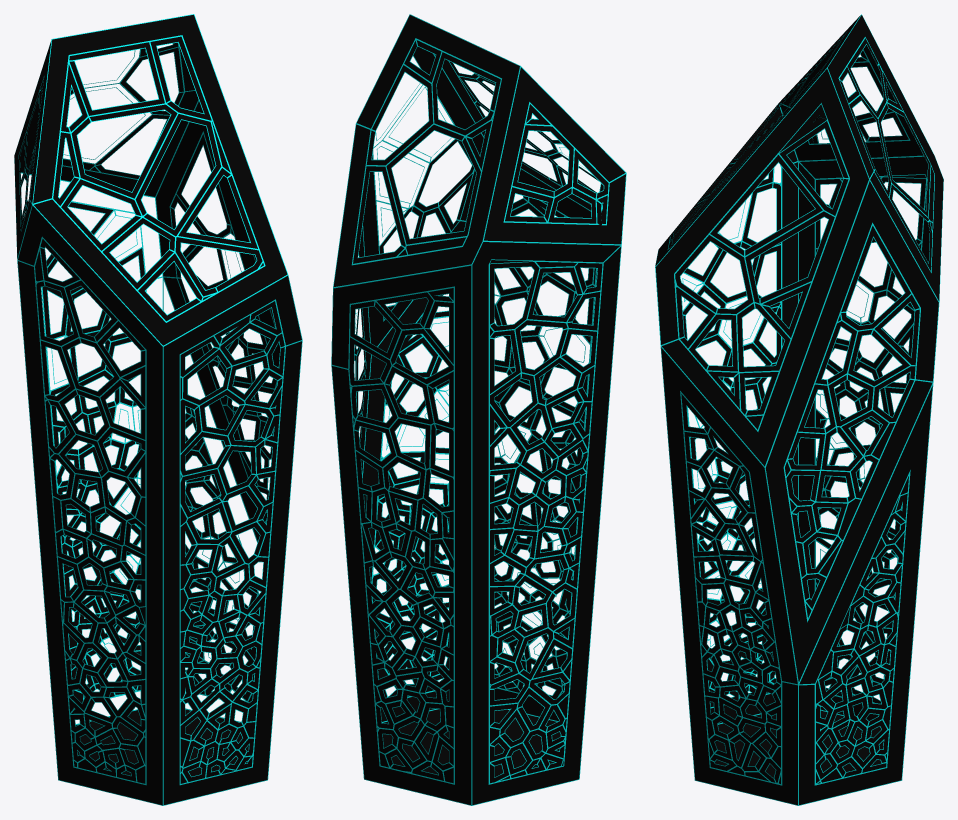
File: Crystal-257-9.fbx
3 views of the same model, side by side, from view 1: azimuth 30°, elevation 25°; view 2: azimuth 150°, elevation 25°; view 3: azimuth 270°, elevation 25° (orthographic). The views are drawn at different scales.
Visible parts, largest first — view 1: subnet1; view 2: subnet1; view 3: subnet1.
Boxes of the visible parts, <box> form: subnet1: <box>14,14,302,805</box>; subnet1: <box>331,14,626,805</box>; subnet1: <box>655,14,943,805</box>.
Size of the model in its own units: 99.37 by 262 by 96.49.
